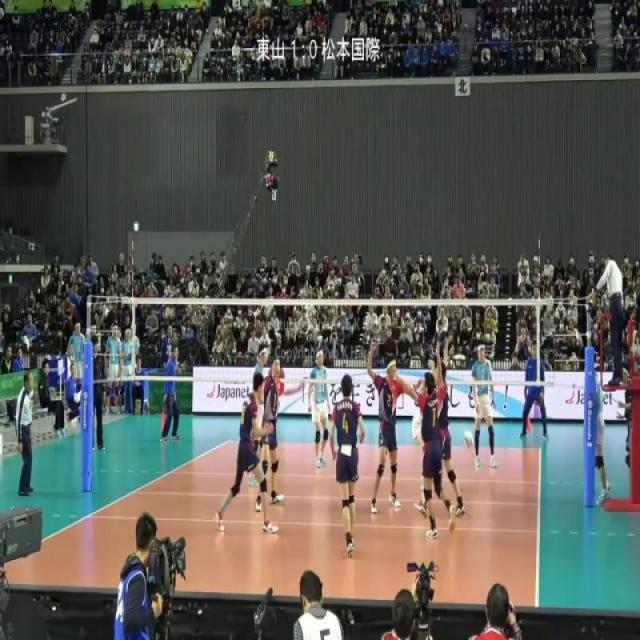volleyball: (463, 428, 473, 449)
